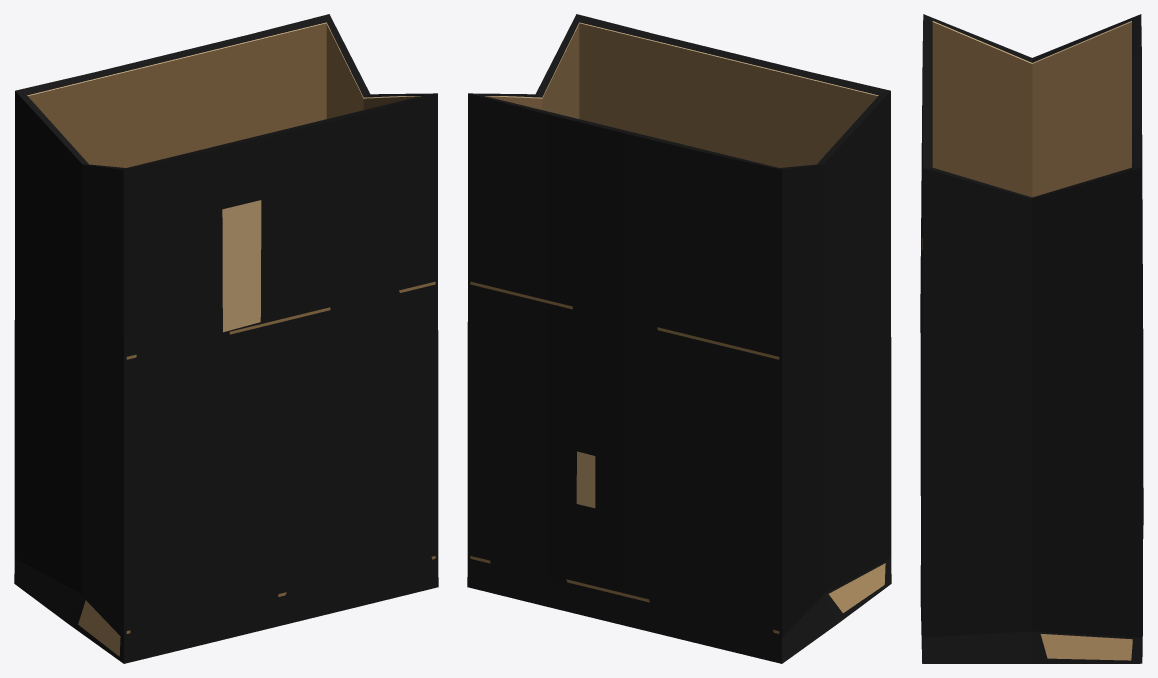
File: Kese_acik.fbx
The picture shows the model from 3 angles, left to right: view 1: azimuth 30°, elevation 25°; view 2: azimuth 150°, elevation 25°; view 3: azimuth 270°, elevation 25°; orthographic projection.
Parts seen in each view (by area): view 1: Kese_acik; view 2: Kese_acik; view 3: Kese_acik.
Part boxes in pixels (left/top/right/bottom): Kese_acik: left=14, top=14, right=438, bottom=663; Kese_acik: left=467, top=14, right=891, bottom=663; Kese_acik: left=920, top=14, right=1143, bottom=663.
Bounding box in the file's own units: 0.2033 × 0.3022 × 0.1233.
